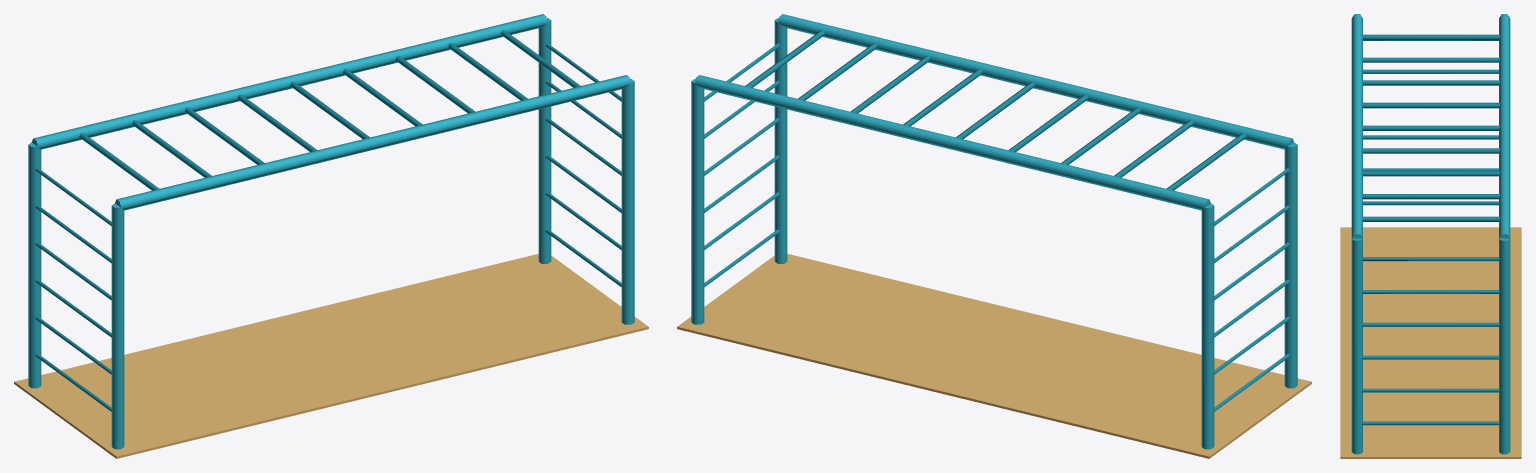
The model's file is monkey_bars.glb.
The picture shows the model from 3 angles, left to right: view 1: azimuth 30°, elevation 25°; view 2: azimuth 150°, elevation 25°; view 3: azimuth 270°, elevation 25°; orthographic projection. The views are drawn at different scales.
Visible parts, largest first — view 1: root; view 2: root; view 3: root.
Boxes of the visible parts, <box> form: root: <box>14,14,648,458</box>; root: <box>677,14,1311,458</box>; root: <box>1340,14,1521,458</box>.
Size of the model in its own units: 4.8 by 2.14 by 1.6.
